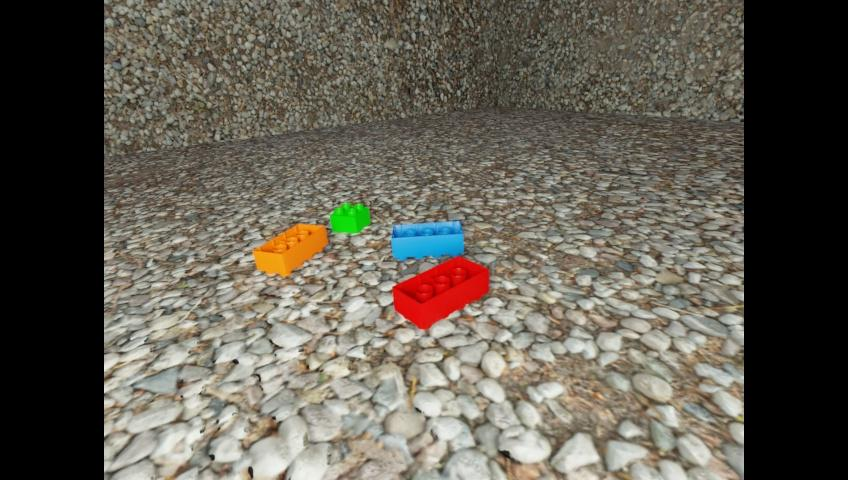2x2_green: (329, 202, 369, 233)
4x2_blue: (391, 220, 462, 259)
4x2_orange: (252, 223, 327, 276)
4x2_red: (392, 255, 488, 329)
